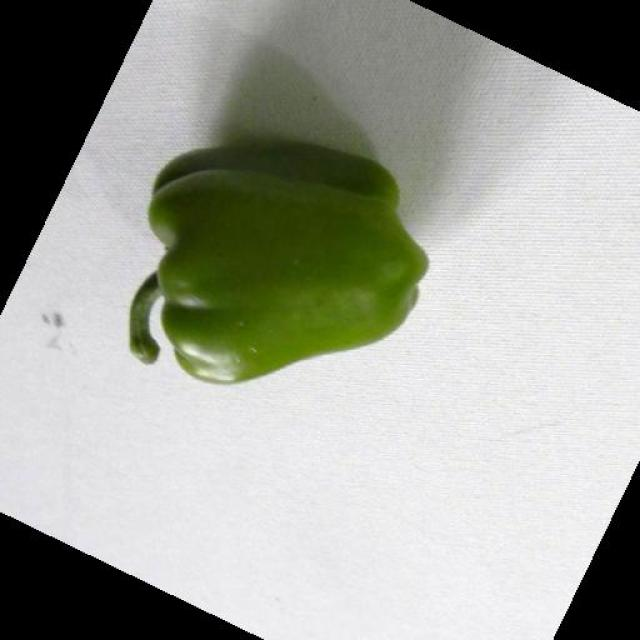Fresh_Capsicum: (133, 157, 423, 363)
